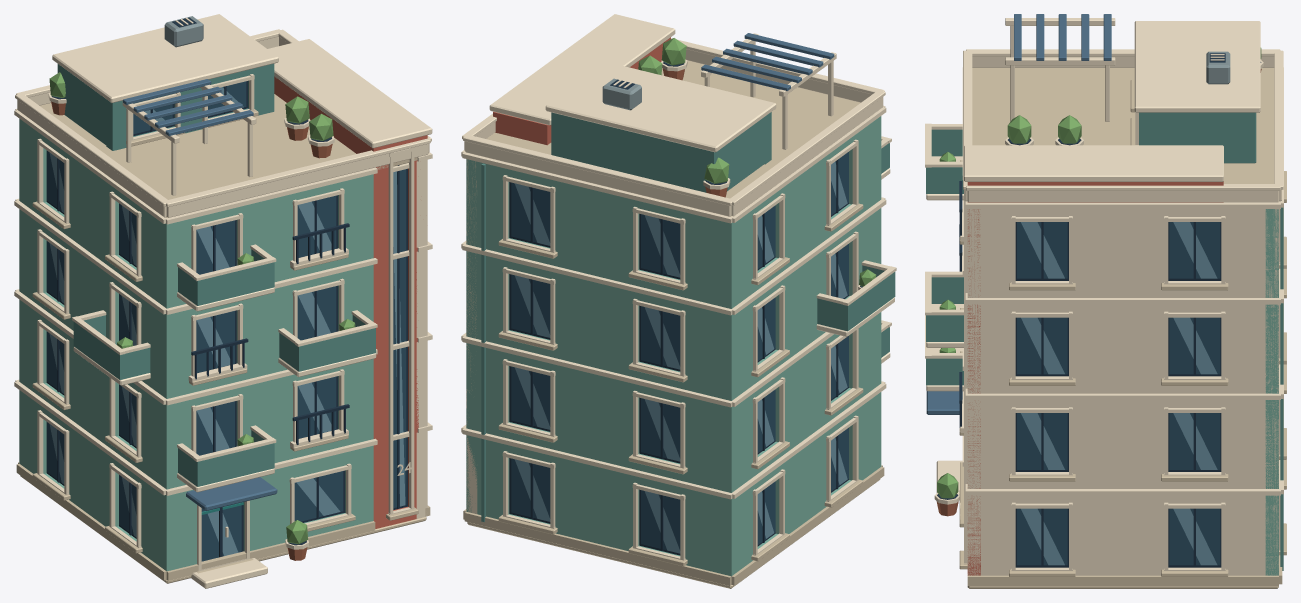
File: terrace_apartments.glb
The picture shows the model from 3 angles, left to right: view 1: azimuth 30°, elevation 25°; view 2: azimuth 150°, elevation 25°; view 3: azimuth 270°, elevation 25°; orthographic projection. The views are drawn at different scales.
Parts seen in each view (by area): view 1: TerraceApartments_StaticMesh; view 2: TerraceApartments_StaticMesh; view 3: TerraceApartments_StaticMesh.
Boxes of the visible parts, <box> form: TerraceApartments_StaticMesh: <box>14,14,432,588</box>; TerraceApartments_StaticMesh: <box>461,14,896,588</box>; TerraceApartments_StaticMesh: <box>925,14,1286,588</box>.
Bounding box in the file's own units: 10.53 × 14.95 × 10.47.
